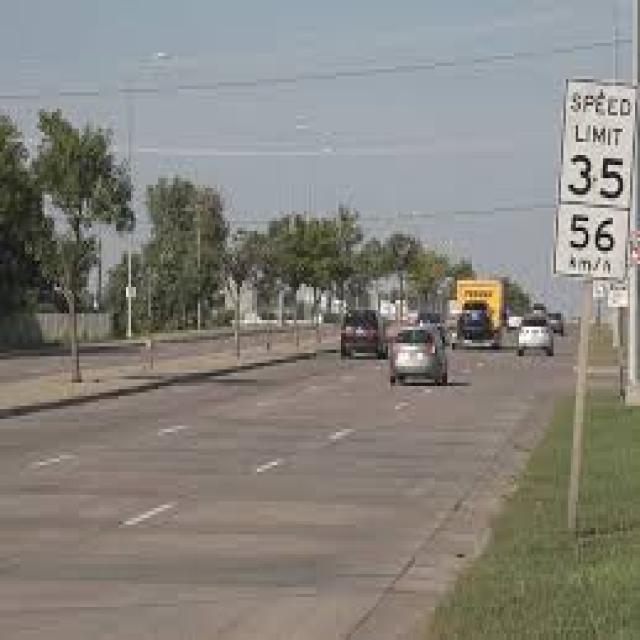speedLimit35: (552, 54, 632, 210)
